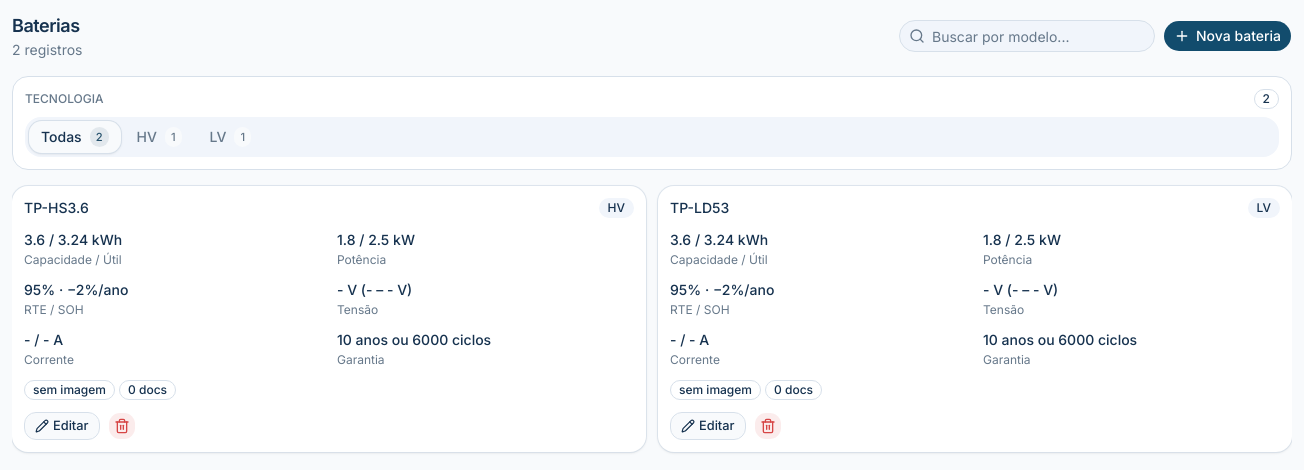
Scenario: BatteriesEditor: listing › filters by model search
This screenshot has width=1304, height=470.
Type "LD53" into the field named "Buscar bateria por modelo" at (1027, 36), box [899,20,1155,52]
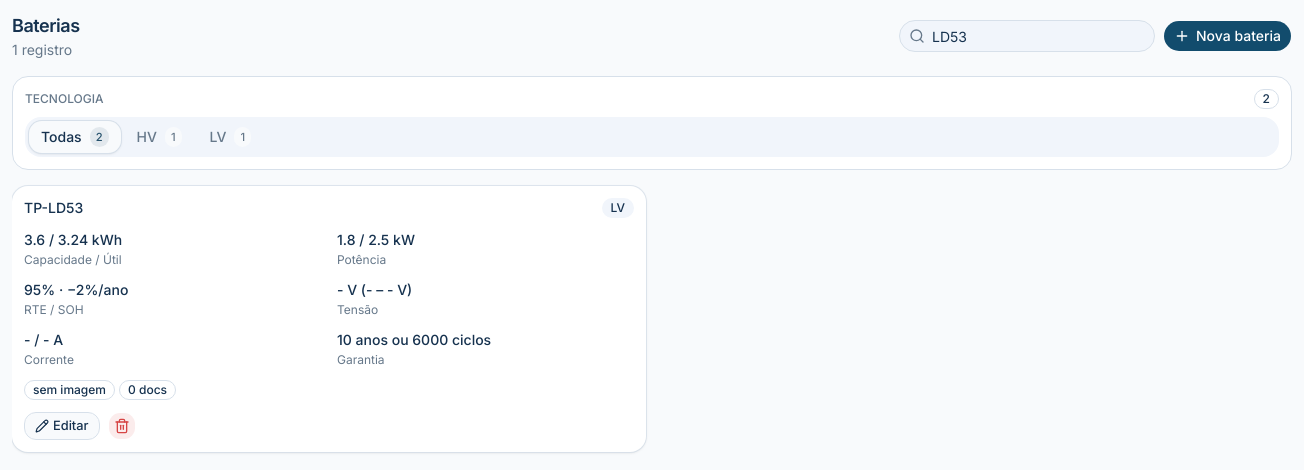
Expected: the text "TP-LD53" is shown, [24,198,83,217]
Result: the text "TP-HS3.6" is gone
